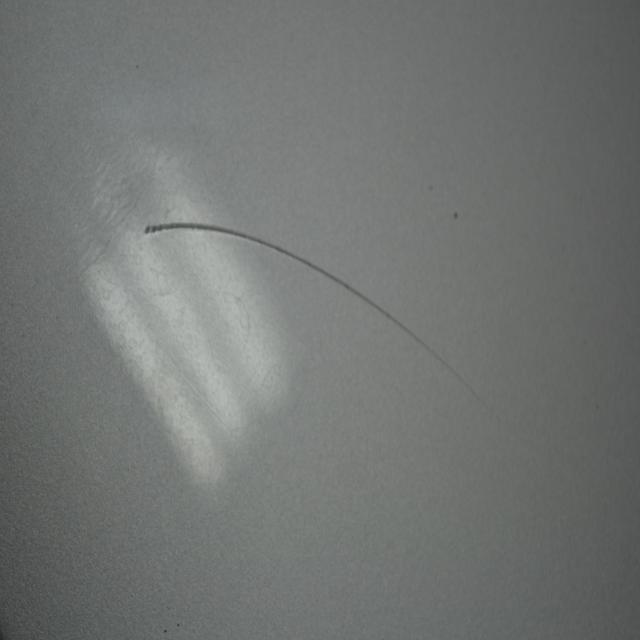dirt: (450, 205, 460, 220)
scratch: (143, 218, 488, 403)
